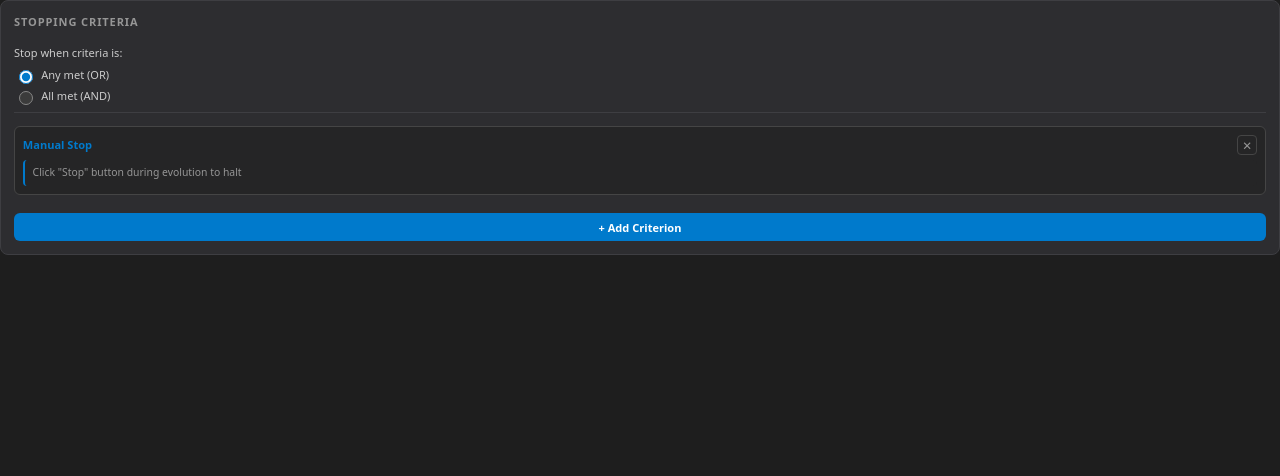
Test: StoppingCriteriaPanel › prevents adding a second ManualStop
Click the button "+ Add Criterion" at [640, 227], box [14, 213, 1266, 241]
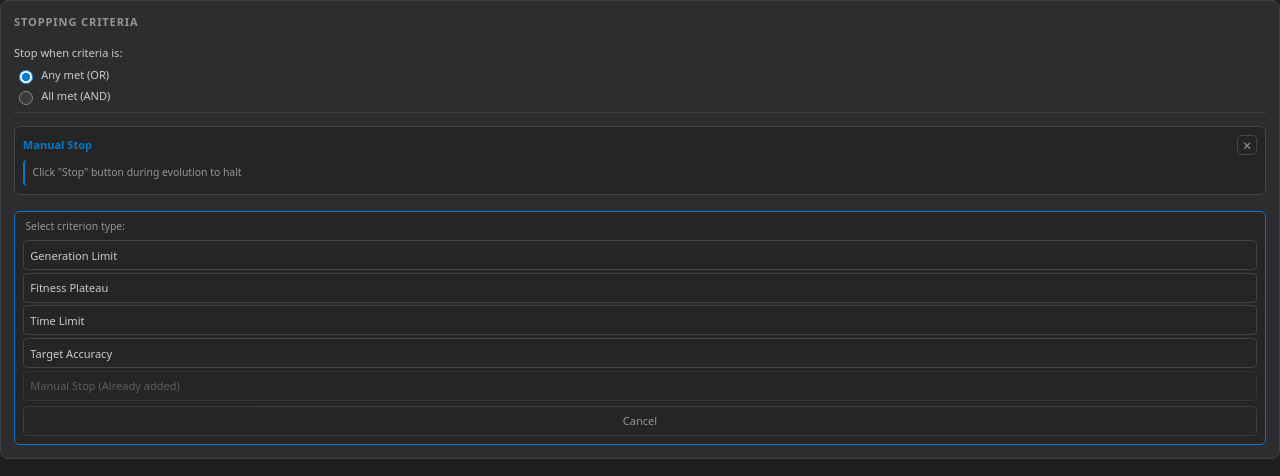
Now the button "Manual Stop (Already added)" is disabled, box [23, 371, 1257, 401]
